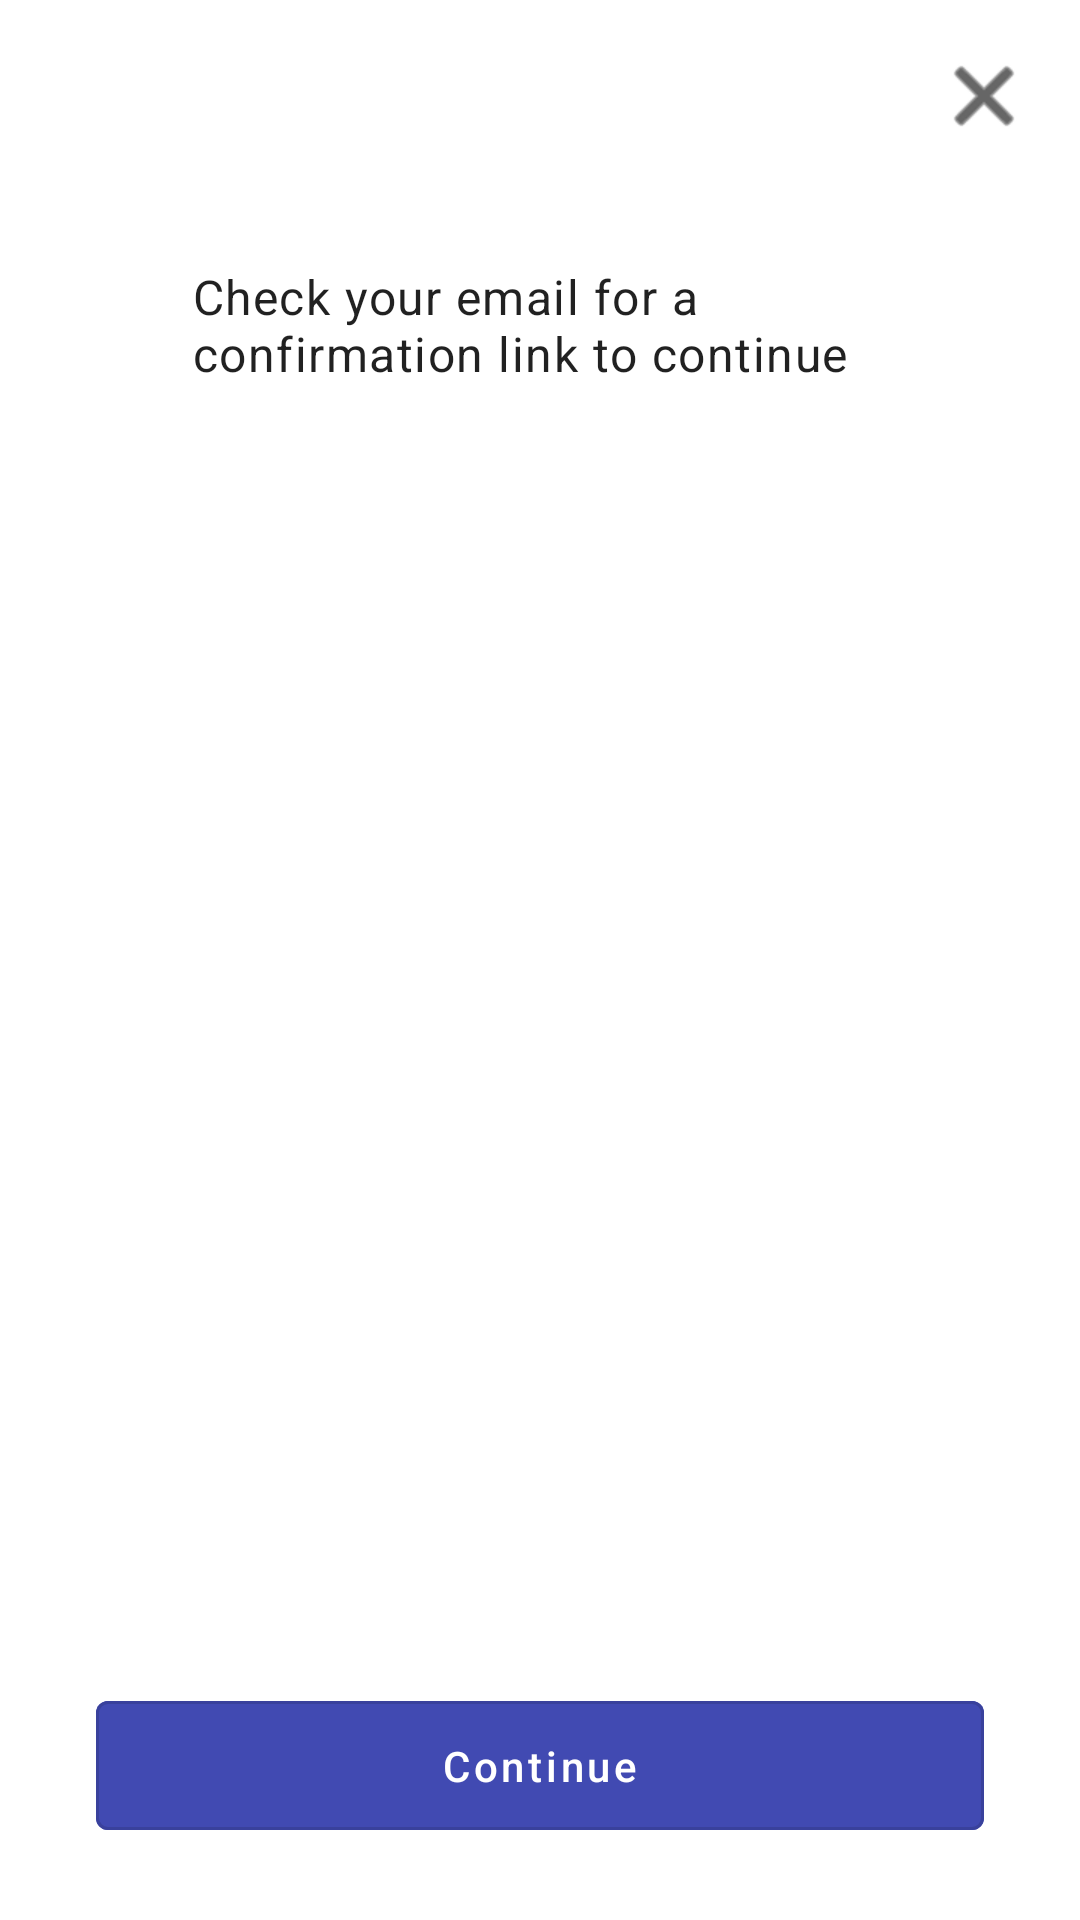

Icons on this 1080 x 1920 Android screen, each with the point to tap as point (x, y):
close clear cancel: point (984, 96)
